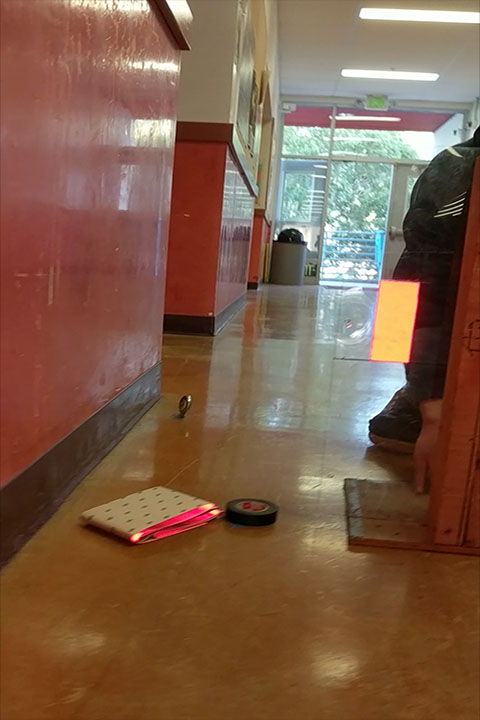gear: (371, 281, 418, 363)
